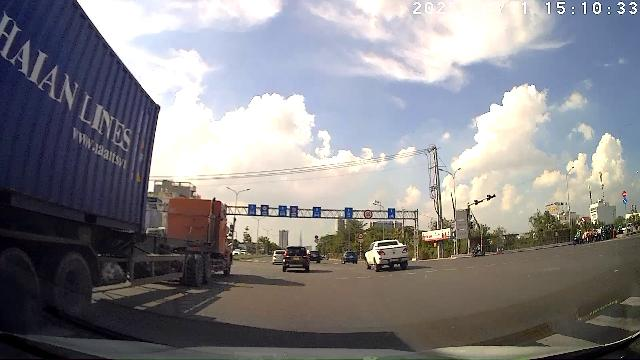127-toc-do-toi-da-50: (363, 210, 372, 218)
